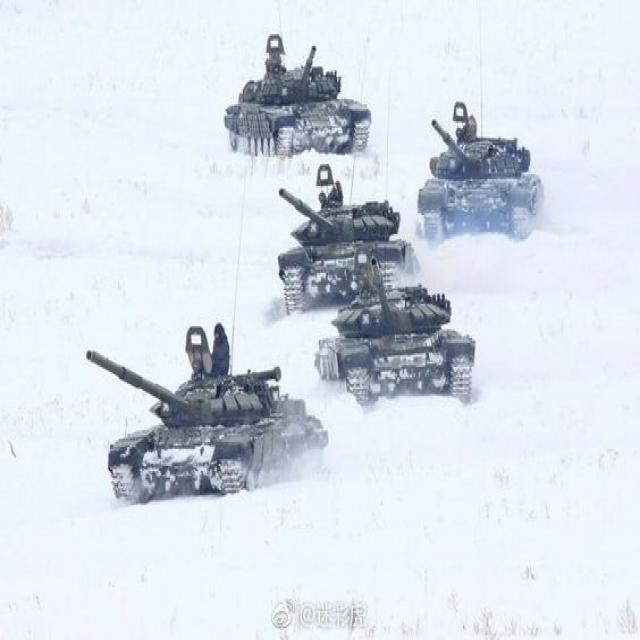Tanks: (80, 330, 328, 492), (216, 20, 374, 168), (324, 272, 482, 419), (268, 173, 418, 315), (406, 99, 546, 248)
